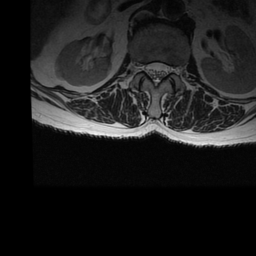CCS_normal: (152, 53, 161, 93)
LFS_normal: (170, 57, 178, 82)
LLS_normal: (161, 55, 170, 84)
RFS_normal: (136, 53, 144, 81)
RLS_normal: (144, 55, 152, 84)
